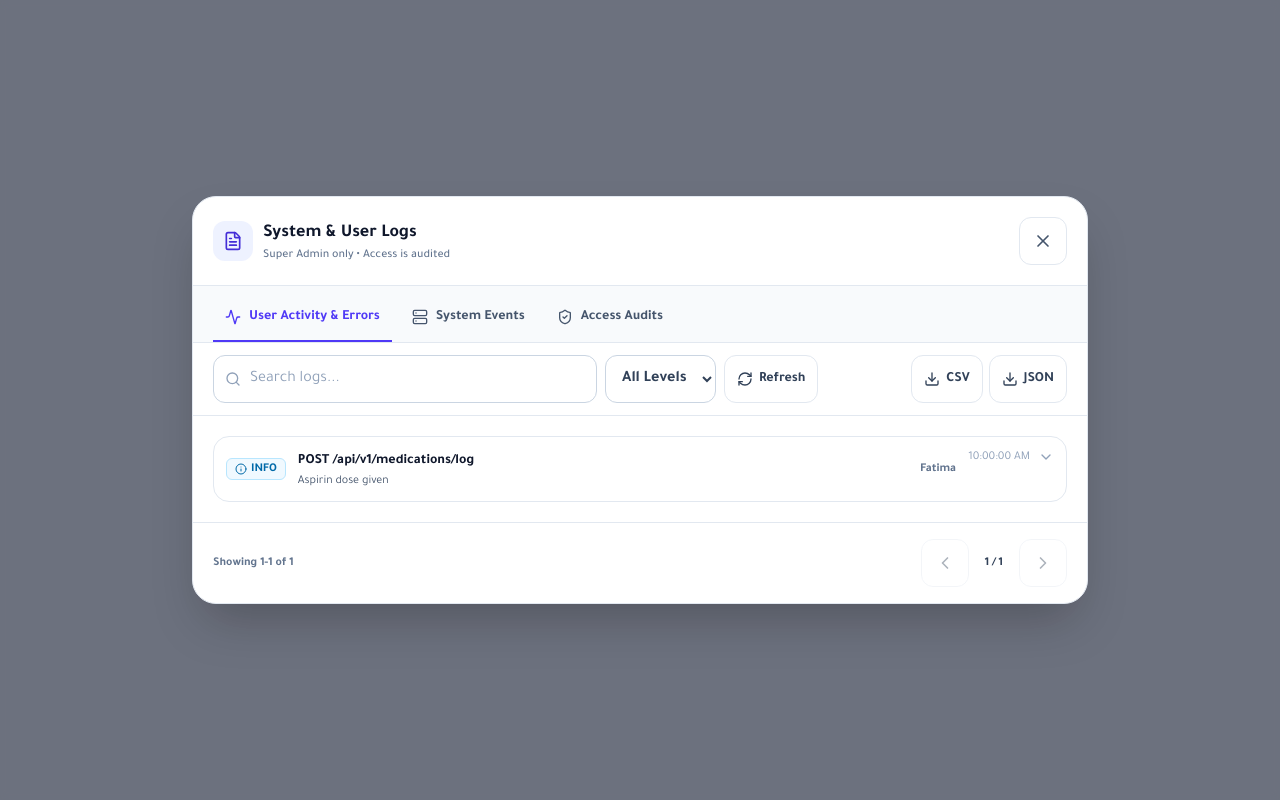
Test case: AdminLogsModal › renders user logs by default and switches to system logs and access audits
Expected: the text "Aspirin dose given" is shown, [298,475,389,487]
// Switch to System Events tab
Click the button "System Events".
click(468, 318)  # box [400,294,537,342]
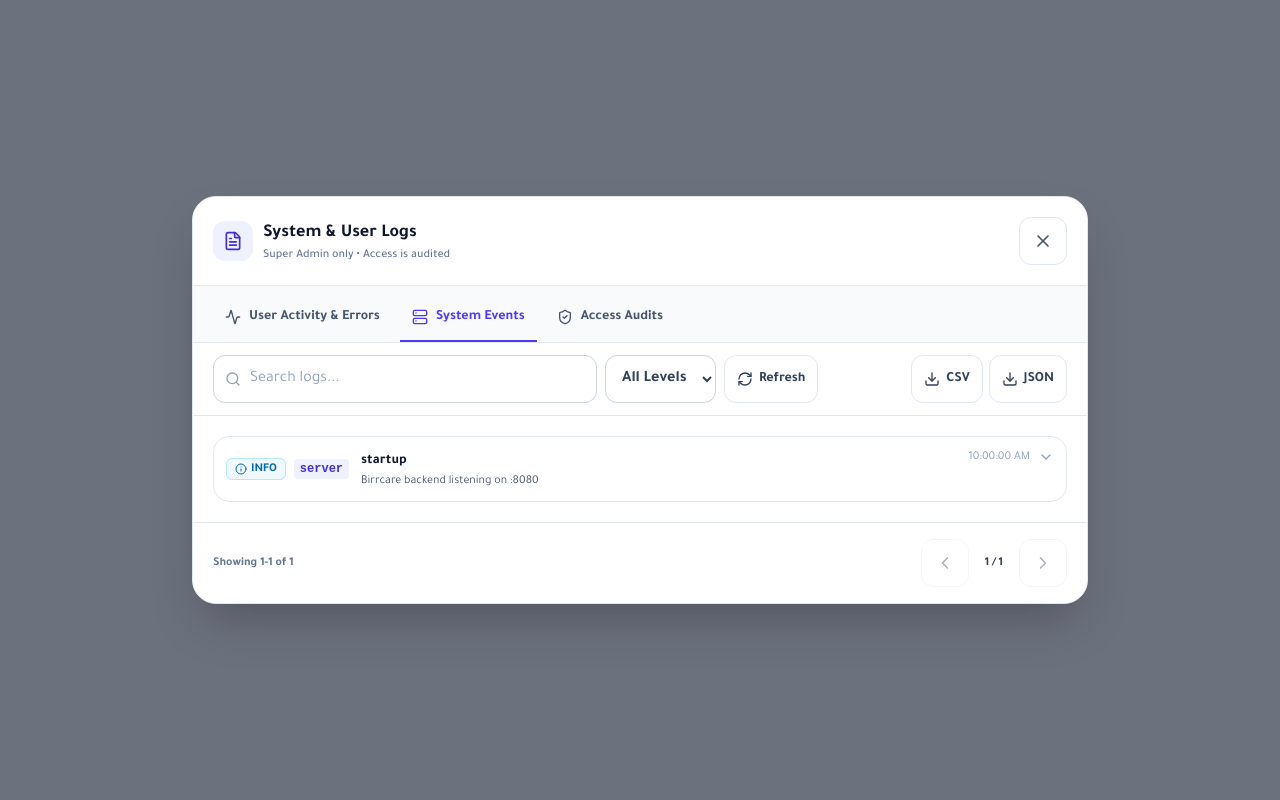
Expected: the text "Birrcare backend listening on :8080" is shown, [361,475,539,487]
// Switch to Access Audits tab
Click the button "Access Audits".
click(610, 318)  # box [545,294,675,342]
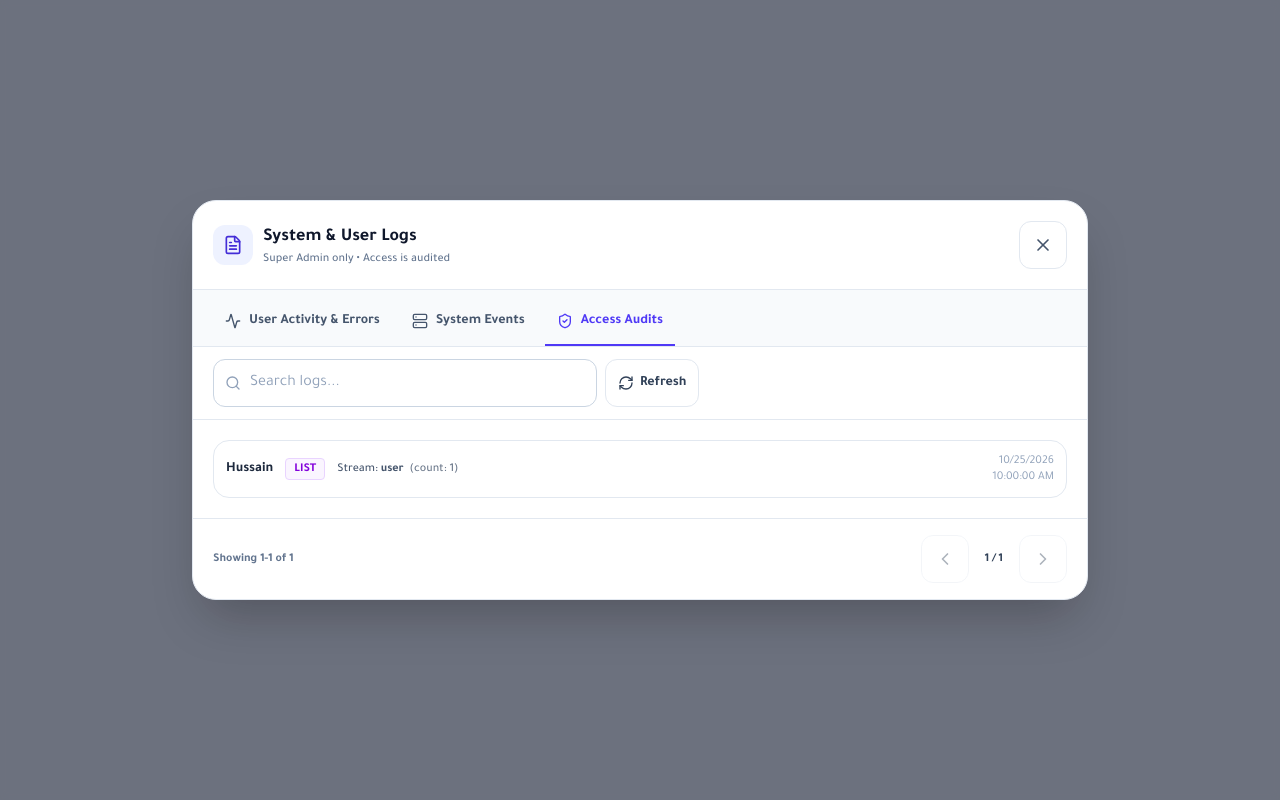
Expected: the text "Hussain" is shown, [226,462,273,476]
